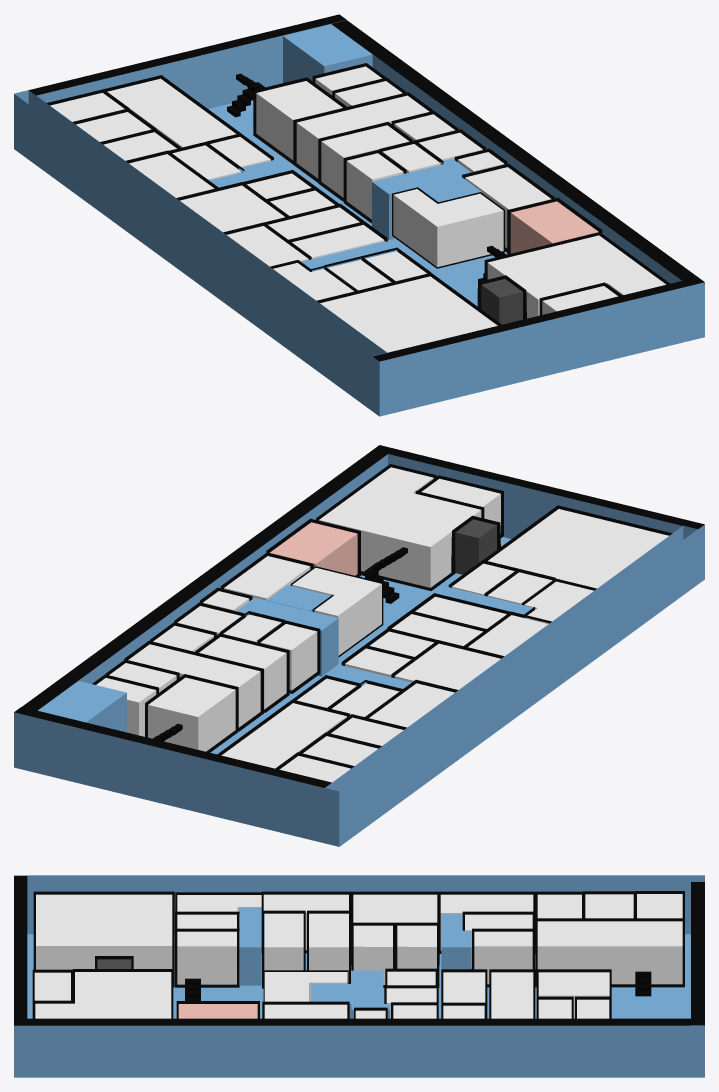
3 views of the same model, one above another, from view 1: azimuth 30°, elevation 25°; view 2: azimuth 150°, elevation 25°; view 3: azimuth 270°, elevation 25° (orthographic). The views are drawn at different scales.
Parts seen in each view (by area): view 1: object, room_4_4_19, room_4_4_18, room_4_4_28, room_4_4_14, room_4_4_13, room_4_4_15, トイレ_4_4_1, room_4_4_16, room_4_4_25, room_4_4_27, room_4_4_26 (+28 smaller); view 2: object, room_4_4_18, room_4_4_19, room_4_4_15, room_4_4_28, room_4_4_14, room_4_4_13, トイレ_4_4_1, room_4_4_16, room_4_4_25, room_4_4_27, room_4_4_26 (+27 smaller); view 3: object, room_4_4_19, room_4_4_14, room_4_4_18, room_4_4_22, room_4_4_16, room_4_4_24, room_4_4_9, room_4_4_8, room_4_4_13, room_4_4_28, room_4_4_10 (+43 smaller).
Boxes of the visible parts, x1,y1,x2,y2 form: object: [14, 14, 704, 416]; room_4_4_19: [320, 276, 497, 352]; room_4_4_18: [487, 235, 665, 318]; room_4_4_28: [393, 189, 503, 266]; room_4_4_14: [107, 78, 236, 147]; room_4_4_13: [296, 95, 429, 178]; room_4_4_15: [256, 81, 342, 160]; トイレ_4_4_1: [510, 201, 598, 253]; room_4_4_16: [180, 185, 284, 232]; room_4_4_25: [321, 125, 409, 197]; room_4_4_27: [465, 167, 551, 248]; room_4_4_26: [346, 153, 403, 219]; object: [14, 445, 704, 846]; room_4_4_18: [319, 467, 481, 587]; room_4_4_19: [488, 509, 668, 588]; room_4_4_15: [148, 677, 235, 751]; room_4_4_28: [292, 567, 381, 655]; room_4_4_14: [221, 703, 346, 768]; room_4_4_13: [128, 644, 260, 727]; トイレ_4_4_1: [270, 522, 357, 575]; room_4_4_16: [394, 643, 500, 689]; room_4_4_25: [199, 637, 286, 709]; room_4_4_27: [224, 556, 310, 600]; room_4_4_26: [260, 624, 317, 690]; object: [14, 875, 704, 1077]; room_4_4_19: [36, 894, 172, 969]; room_4_4_14: [537, 921, 682, 984]; room_4_4_18: [35, 972, 171, 1018]; room_4_4_22: [177, 931, 236, 984]; room_4_4_16: [353, 894, 437, 922]; room_4_4_24: [474, 931, 532, 984]; room_4_4_9: [309, 913, 348, 983]; room_4_4_8: [264, 913, 303, 970]; room_4_4_13: [491, 972, 533, 1018]; room_4_4_28: [264, 972, 347, 1001]; room_4_4_10: [353, 925, 392, 984].
Bounding box in the file's own units: 0.9939 × 0.1627 × 1.93.
